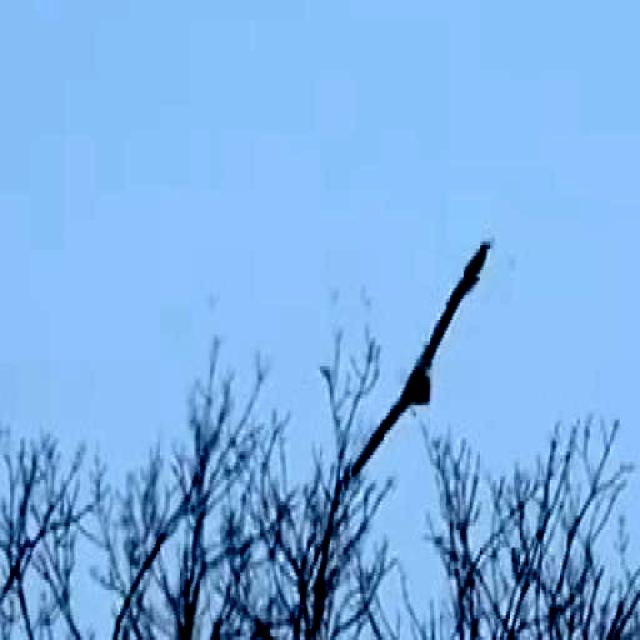airplane: (339, 208, 506, 488)
